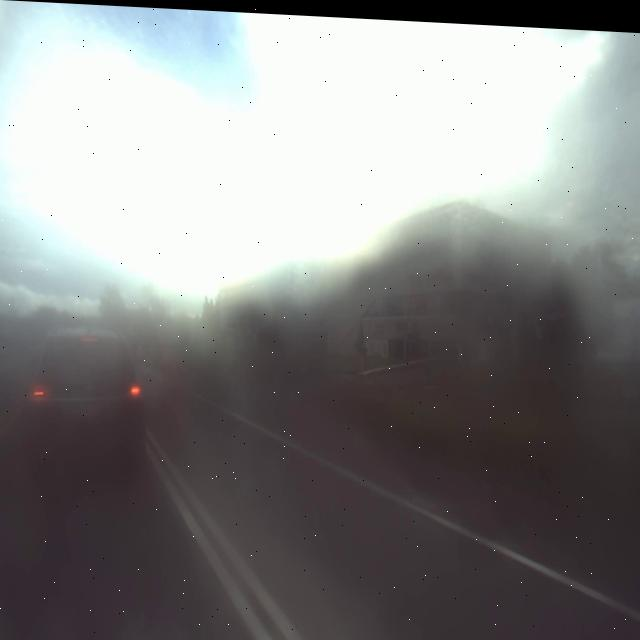car: (18, 305, 147, 476)
